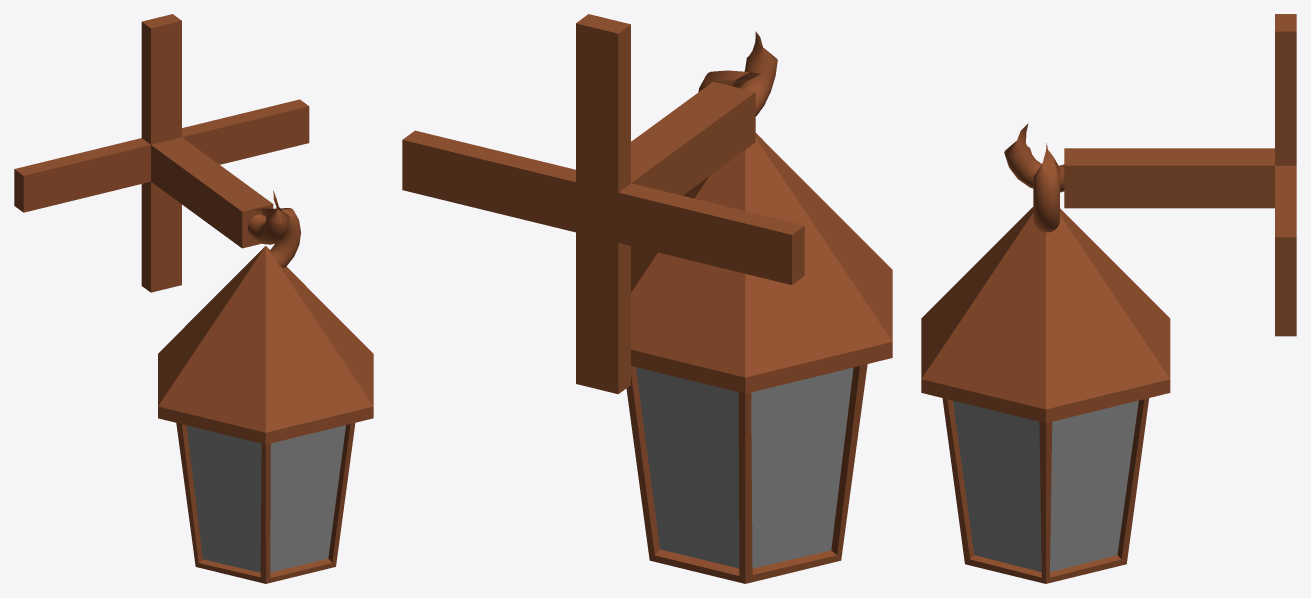
File: deng1.FBX
3 views of the same model, side by side, from view 1: azimuth 30°, elevation 25°; view 2: azimuth 150°, elevation 25°; view 3: azimuth 270°, elevation 25° (orthographic). The views are drawn at different scales.
Parts seen in each view (by area): view 1: Acc_Light005, 对象005; view 2: Acc_Light005, 对象005; view 3: Acc_Light005, 对象005.
Boxes of the visible parts, box(x1,y1,x2,y2) form: Acc_Light005: box(14, 14, 373, 583); 对象005: box(186, 425, 345, 572); Acc_Light005: box(402, 14, 892, 583); 对象005: box(636, 367, 853, 568); Acc_Light005: box(921, 14, 1296, 583); 对象005: box(953, 400, 1138, 571).
Size of the model in its own units: 0.2953 by 0.447 by 0.2913.
